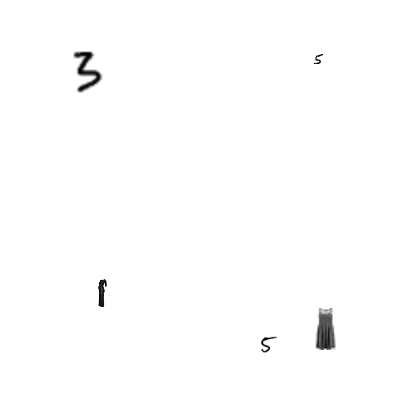3: (58, 42, 114, 98)
5: (255, 332, 277, 354), (311, 52, 325, 66)
Dress: (304, 308, 346, 350), (88, 279, 116, 307)
